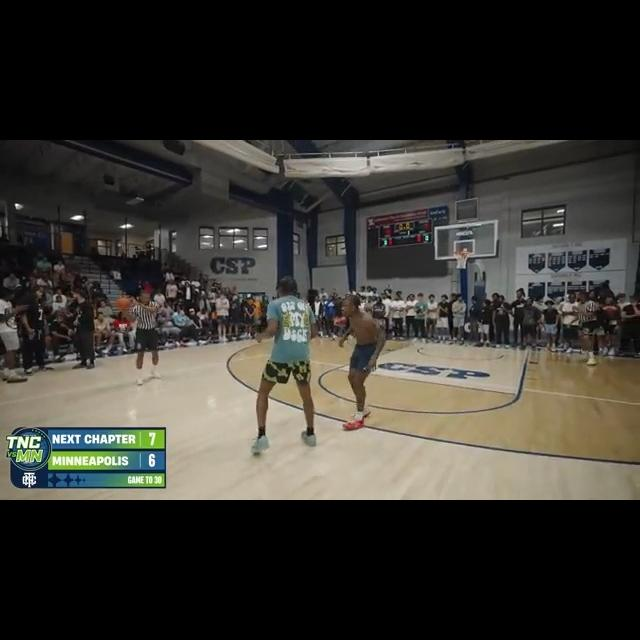basketball: (114, 294, 133, 310)
hoop: (452, 248, 469, 269)
